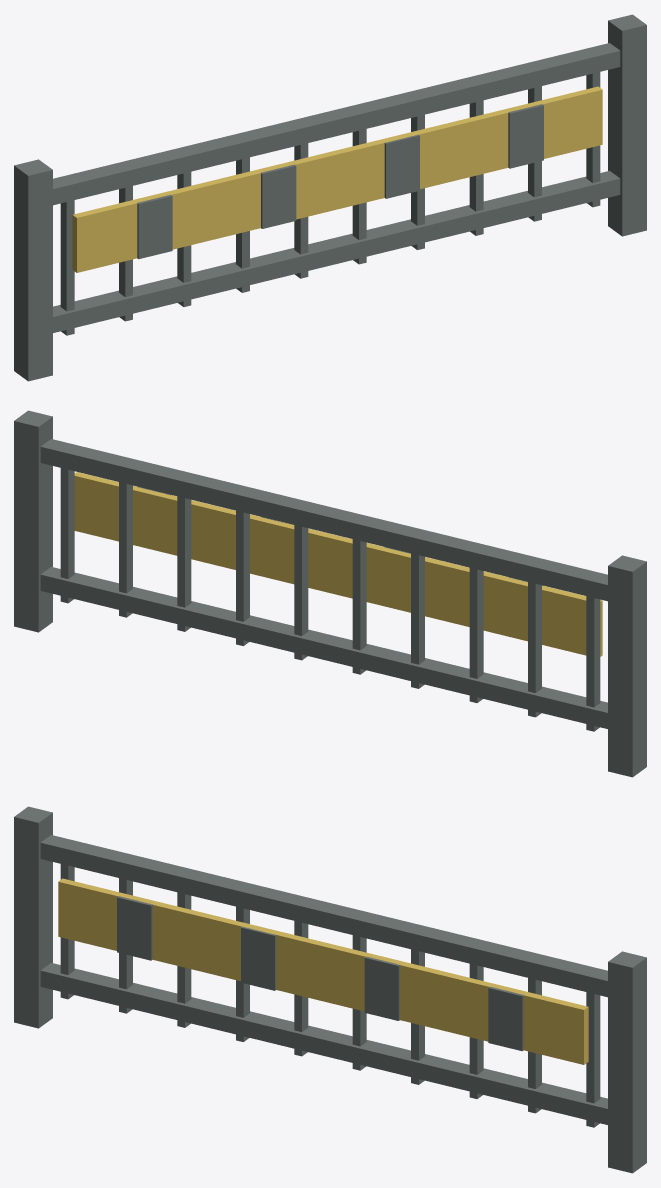
The picture shows the model from 3 angles, top to bottom: view 1: azimuth 30°, elevation 25°; view 2: azimuth 150°, elevation 25°; view 3: azimuth 330°, elevation 25°; orthographic projection.
Bounding box in the file's own units: 4 × 1.27 × 0.2.
